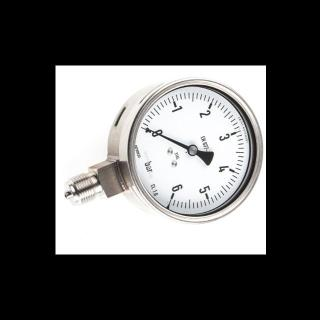gauge: (124, 70, 266, 232), (161, 184, 182, 208), (139, 121, 161, 139), (187, 145, 197, 155), (146, 126, 152, 132)
